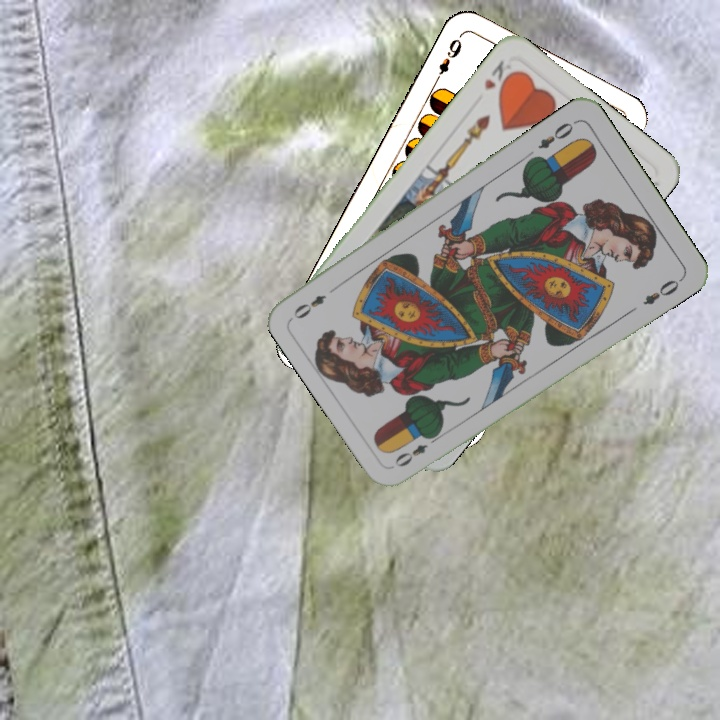E9: (430, 34, 465, 87)
EO: (390, 430, 443, 470), (534, 116, 579, 152)
HK: (480, 56, 514, 92)
